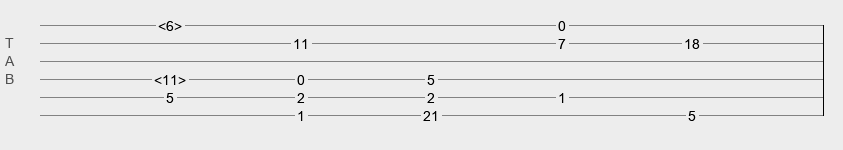0: (297, 72, 305, 82), (558, 18, 566, 28)
1: (297, 108, 305, 118), (558, 90, 566, 100)
11: (293, 36, 309, 46)
18: (684, 36, 700, 46)
2: (297, 90, 305, 100), (427, 90, 435, 100)
21: (423, 108, 439, 118)
5: (166, 90, 174, 100), (427, 72, 435, 82), (688, 108, 696, 118)
7: (558, 36, 566, 46)
harmonic: (154, 72, 186, 82), (158, 18, 182, 28)
